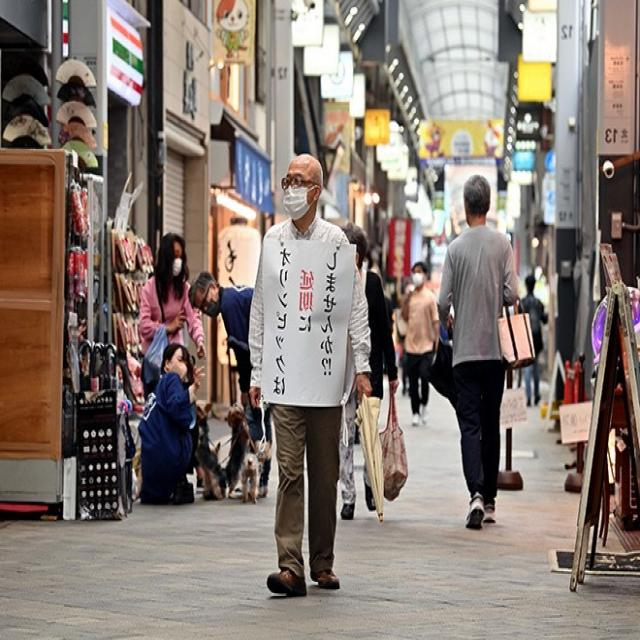adult: (244, 153, 370, 595), (436, 175, 520, 534), (137, 234, 206, 411), (136, 342, 198, 506), (184, 272, 260, 394), (402, 262, 438, 426)
